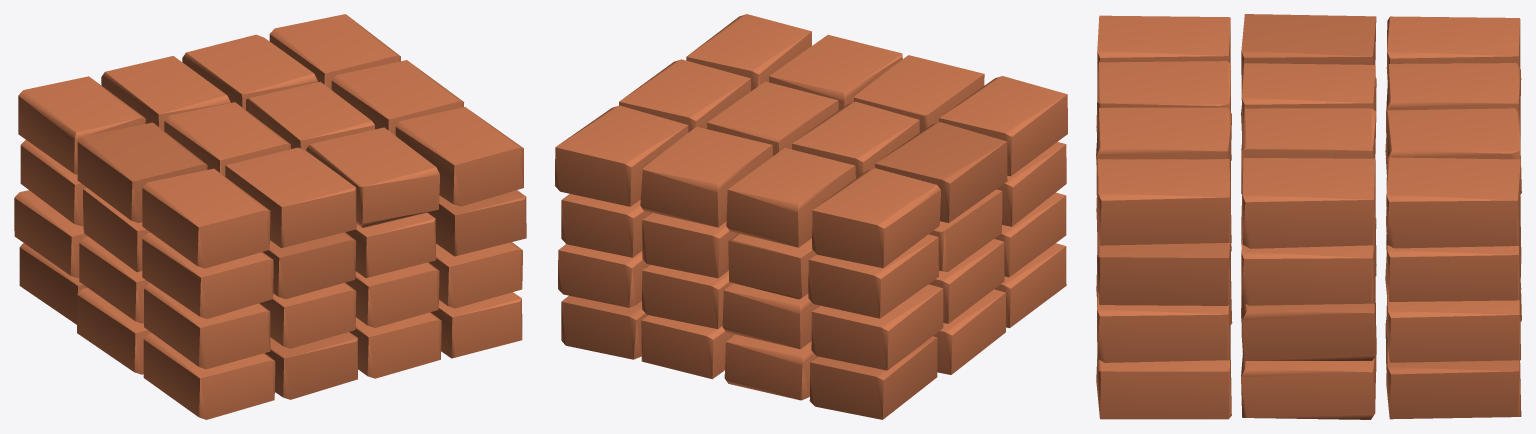
File: BSC-23-LOD1.glb
The picture shows the model from 3 angles, left to right: view 1: azimuth 30°, elevation 25°; view 2: azimuth 150°, elevation 25°; view 3: azimuth 270°, elevation 25°; orthographic projection. The views are drawn at different scales.
Parts seen in each view (by area): view 1: handmade block.036, handmade block.039, handmade block.045, handmade block.042, handmade block.037, handmade block.038, handmade block, handmade block.024, handmade block.012, handmade block.046, handmade block.044, handmade block.047 (+18 smaller); view 2: handmade block.038, handmade block.047, handmade block.044, handmade block.041, handmade block.037, handmade block.014, handmade block.036, handmade block.026, handmade block.002, handmade block.039, handmade block.046, handmade block.043 (+18 smaller); view 3: handmade block.047, handmade block.046, handmade block.045, handmade block.033, handmade block.023, handmade block.009, handmade block.010, handmade block.034, handmade block.011, handmade block.022, handmade block.021, handmade block.035 (+9 smaller).
Part boxes in pixels (x1,y1,x2,y2): handmade block.036: (142, 168, 270, 268); handmade block.039: (225, 147, 356, 248); handmade block.045: (395, 107, 523, 206); handmade block.042: (306, 127, 439, 227); handmade block.037: (77, 122, 207, 222); handmade block.038: (18, 76, 145, 174); handmade block: (143, 333, 275, 419); handmade block.024: (142, 232, 273, 318); handmade block.012: (144, 283, 270, 369); handmade block.046: (331, 60, 464, 135); handmade block.044: (182, 34, 317, 109); handmade block.047: (269, 14, 400, 89); handmade block.038: (812, 168, 940, 268); handmade block.047: (555, 105, 688, 206); handmade block.044: (640, 126, 772, 227); handmade block.041: (726, 148, 855, 247); handmade block.037: (875, 122, 1007, 222); handmade block.014: (811, 284, 943, 370); handmade block.036: (939, 76, 1067, 176); handmade block.026: (808, 234, 938, 318); handmade block.002: (809, 336, 937, 419); handmade block.039: (854, 55, 984, 132); handmade block.046: (619, 59, 750, 132); handmade block.043: (707, 81, 838, 155); handmade block.047: (1386, 157, 1520, 248); handmade block.046: (1242, 158, 1375, 248); handmade block.045: (1096, 159, 1231, 245); handmade block.033: (1097, 230, 1231, 305); handmade block.023: (1386, 284, 1520, 362); handmade block.009: (1096, 344, 1231, 419); handmade block.010: (1241, 338, 1376, 419); handmade block.034: (1241, 218, 1376, 305); handmade block.011: (1386, 341, 1521, 419); handmade block.022: (1241, 279, 1376, 360); handmade block.021: (1097, 293, 1230, 362); handmade block.035: (1386, 224, 1520, 301).
Size of the model in its own units: 1.9 by 1.06 by 1.82.
